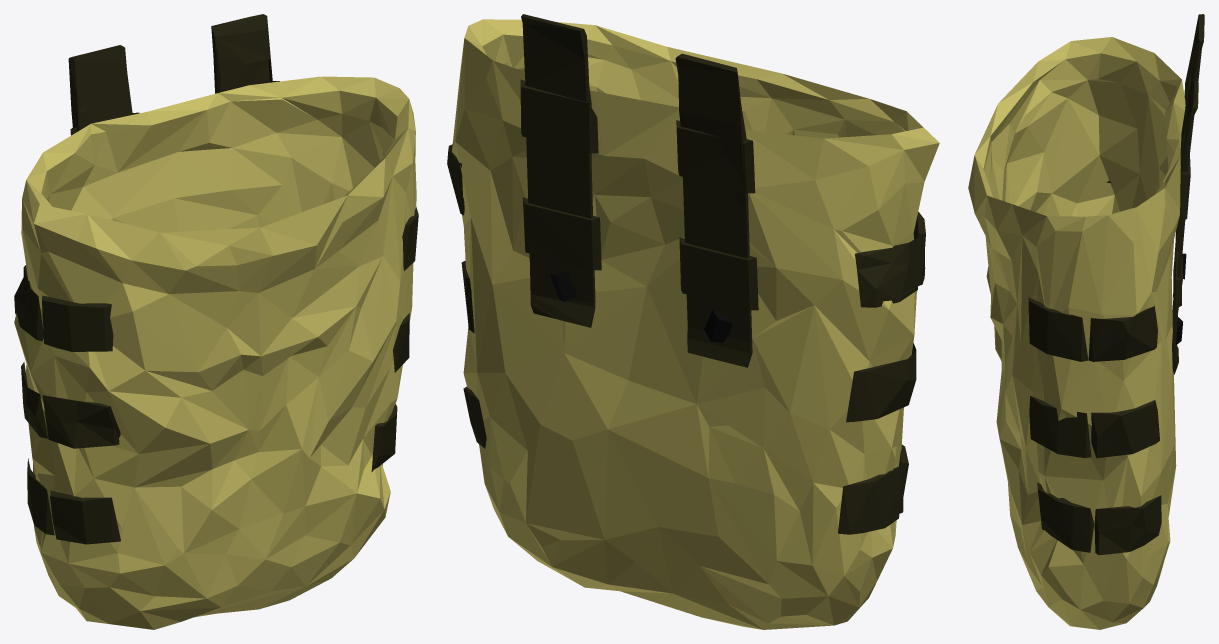
Rendered from Backpack.obj.
The picture shows the model from 3 angles, left to right: view 1: azimuth 30°, elevation 25°; view 2: azimuth 150°, elevation 25°; view 3: azimuth 270°, elevation 25°; orthographic projection. The views are drawn at different scales.
Parts seen in each view (by area): view 1: Backpack_camopouch, Backpack_stapping1; view 2: Backpack_camopouch, Backpack_stapping1, Backpack_dark_plastic; view 3: Backpack_camopouch, Backpack_stapping1.
Boxes of the visible parts, <box> form: Backpack_camopouch: <box>14,76,416,629</box>; Backpack_stapping1: <box>14,14,418,544</box>; Backpack_camopouch: <box>452,19,939,629</box>; Backpack_stapping1: <box>447,14,925,534</box>; Backpack_dark_plastic: <box>550,272,732,342</box>; Backpack_camopouch: <box>968,37,1185,629</box>; Backpack_stapping1: <box>1028,14,1204,555</box>.
Bounding box in the file's own units: 0.2492 × 0.3196 × 0.1286.
